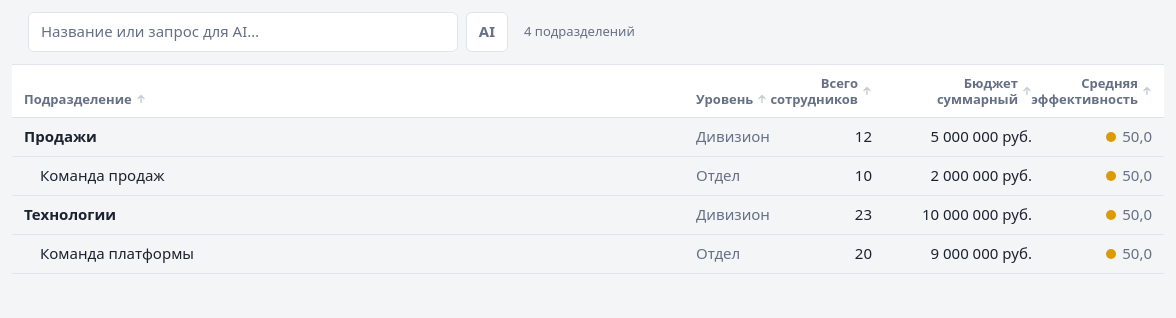
AI-поиск в таблице › после сбоя повторная отправка того же ввода делает новый запрос
Step 1. Type "дивизионы" into the search field named "Поиск по названию подразделения" → (243, 32), box top-left (28, 12), bottom-right (458, 52)
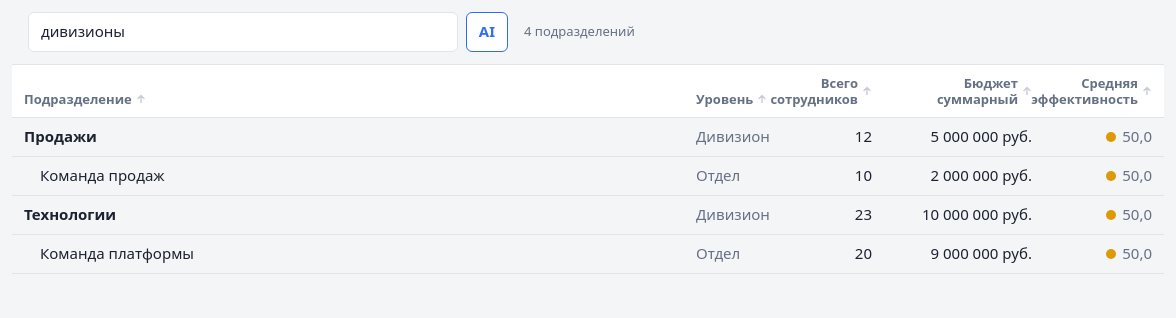
Step 2. Submit the form named "Поиск по названию подразделения", box top-left (28, 12), bottom-right (508, 52)
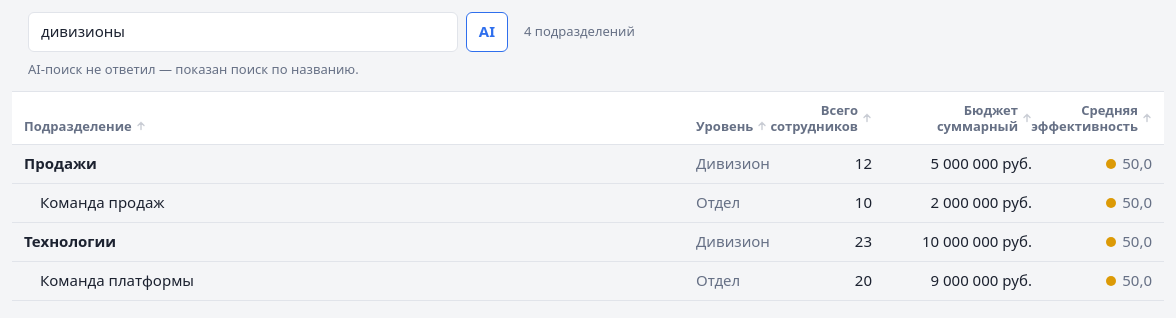
Step 3. Submit the form named "Поиск по названию подразделения", box top-left (28, 12), bottom-right (508, 52)
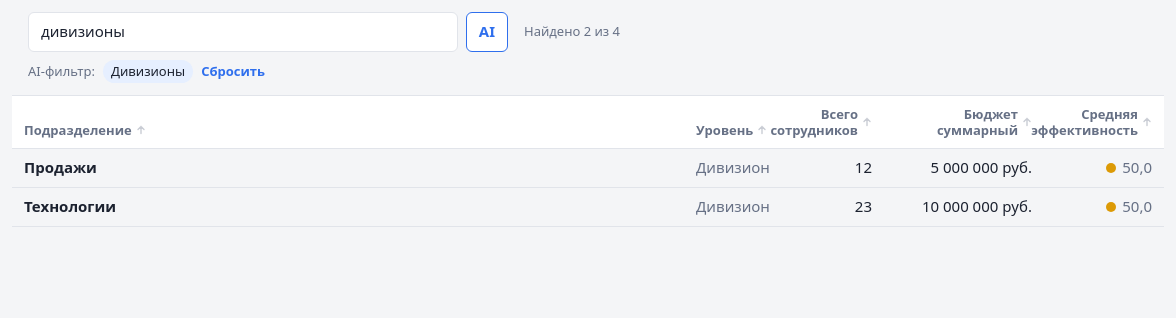
expect the message shows "AI-фильтр": met, box top-left (28, 62), bottom-right (95, 80)
